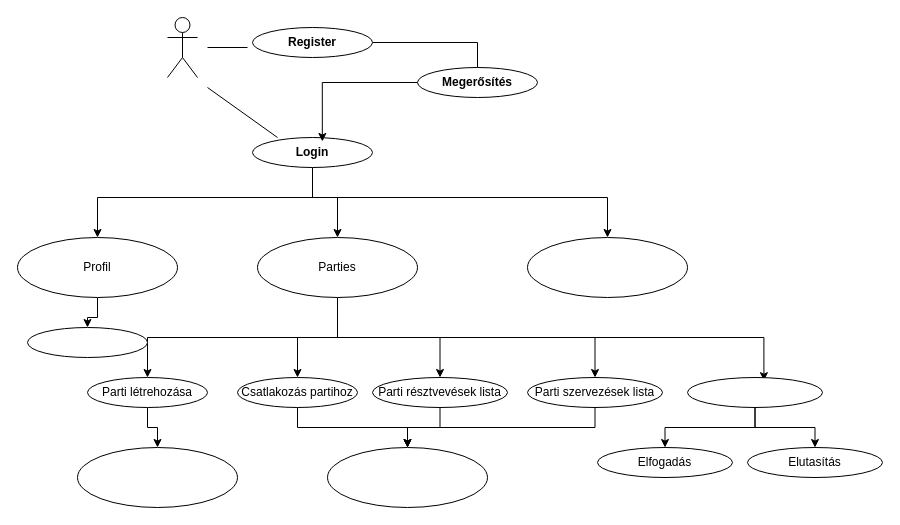
Image size: 900x525. Some labels were removed from this diagram. Each missing label, with the centre of its shape:
Friends: (x=607, y=267)
Kijelentkezés: (x=87, y=342)
Parti létrehozó oldal: (x=157, y=477)
Parti meghívások lista: (x=754, y=392)
Parti oldal megtekintése: (x=407, y=477)
User: (x=182, y=47)
